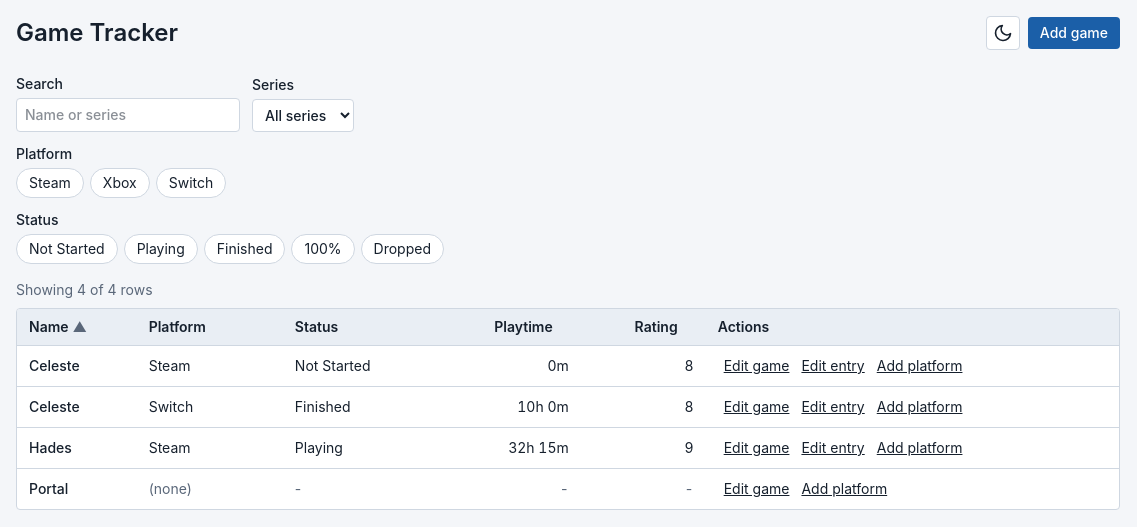
Test: LibraryPage › hides rows that do not match the chosen status
Expected: the table is shown, x1=17 y1=309 x2=1119 y2=509
Click the button "Finished". click: coordinates (245, 249)
box: x1=204 y1=234 x2=285 y2=264
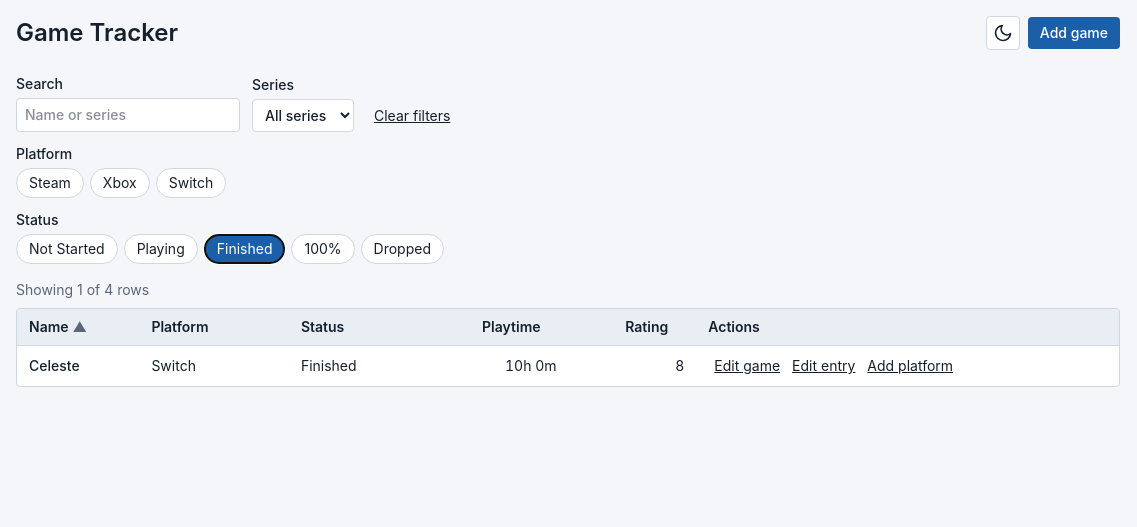
Expected: the text "Showing 1 of 4 rows" is shown, x1=16 y1=281 x2=149 y2=298
